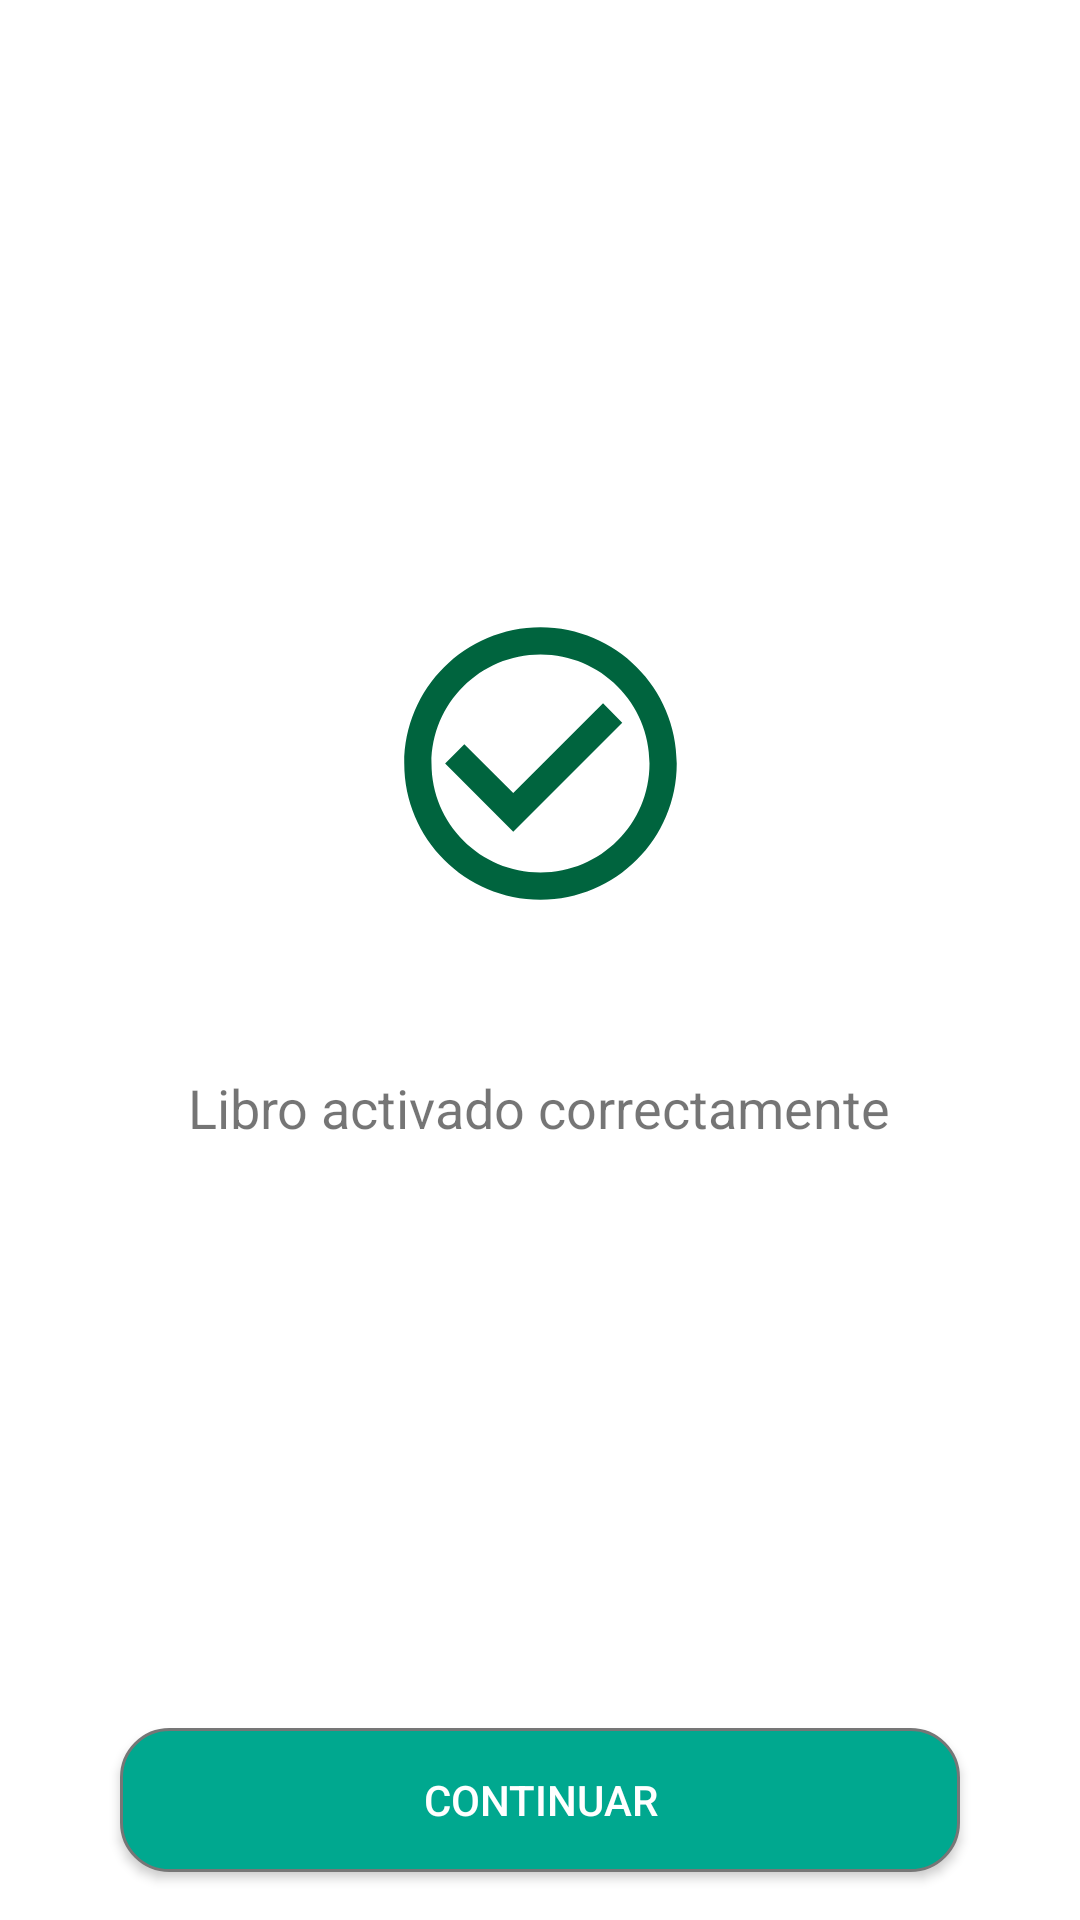

Icons on this 1080w x 1920h Android screen, each with its box as (x1, y1, x2, y2):
check: (404, 627, 677, 900)
